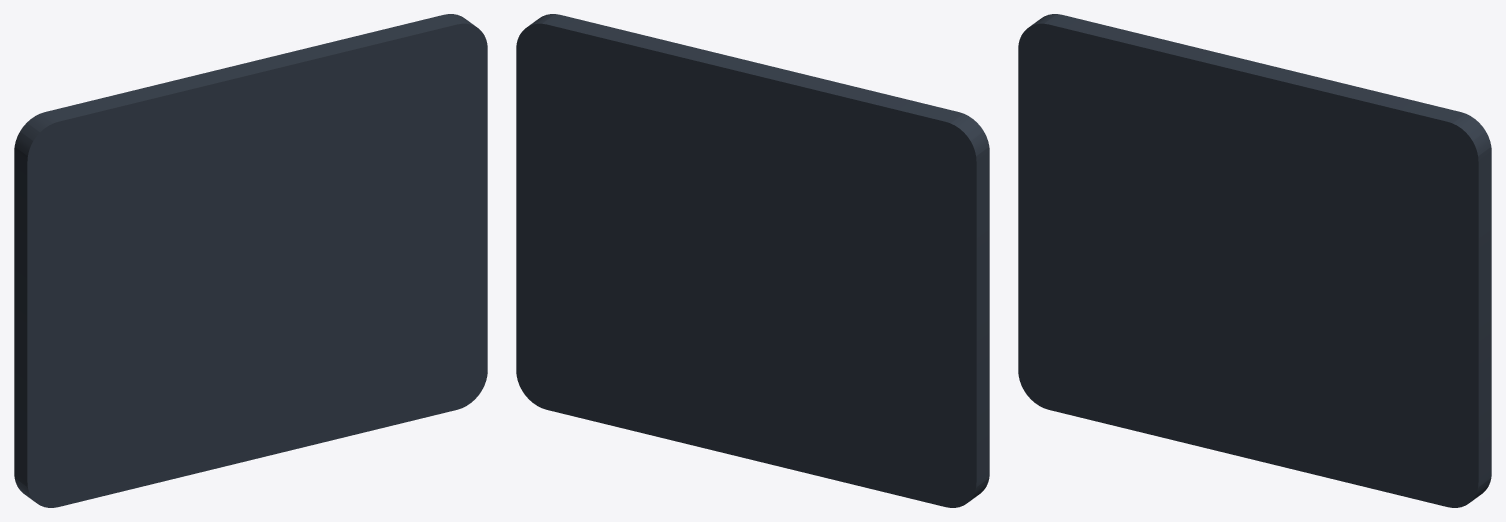
Rendered from original-11.obj.
The picture shows the model from 3 angles, left to right: view 1: azimuth 30°, elevation 25°; view 2: azimuth 150°, elevation 25°; view 3: azimuth 330°, elevation 25°; orthographic projection.
Parts seen in each view (by area): view 1: Group_19/mesh38/mesh38-geometry#mesh38-geometry; view 2: Group_19/mesh38/mesh38-geometry#mesh38-geometry; view 3: Group_19/mesh38/mesh38-geometry#mesh38-geometry.
Part boxes in pixels (x1,y1,x2,y2): Group_19/mesh38/mesh38-geometry#mesh38-geometry: (14, 14, 487, 507); Group_19/mesh38/mesh38-geometry#mesh38-geometry: (516, 14, 989, 507); Group_19/mesh38/mesh38-geometry#mesh38-geometry: (1018, 14, 1491, 507).
Bounding box in the file's own units: 1.61 × 1.29 × 0.0806.
